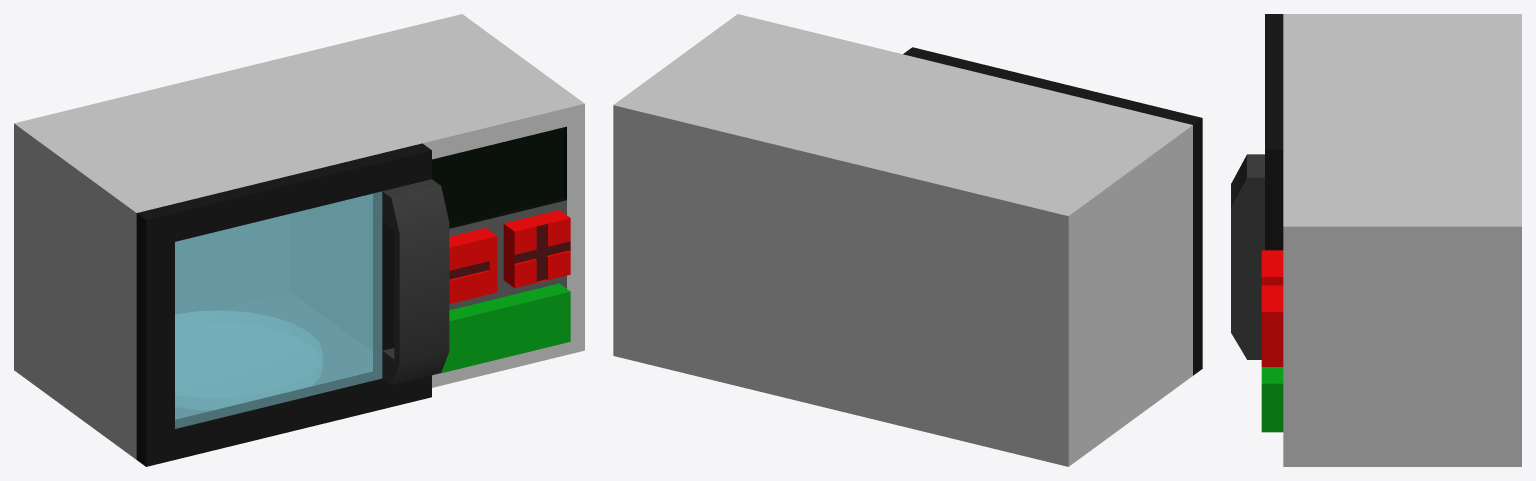
The model's file is Microwave.FBX.
The picture shows the model from 3 angles, left to right: view 1: azimuth 30°, elevation 25°; view 2: azimuth 150°, elevation 25°; view 3: azimuth 270°, elevation 25°; orthographic projection. The views are drawn at different scales.
Parts seen in each view (by area): view 1: Exterior, Door, Interior_Left, Interior_Back, StartButton, PlusButton, Interior_Bottom, MinusButton; view 2: Exterior, Door; view 3: Exterior, Door, PlusButton, StartButton, MinusButton.
Boxes of the visible parts, box(x1,y1,x2,y2) form: Exterior: box(14, 14, 584, 459); Door: box(136, 143, 449, 466); Interior_Left: box(291, 194, 372, 350); Interior_Back: box(175, 214, 289, 313); StartButton: box(441, 283, 570, 373); PlusButton: box(503, 210, 570, 287); Interior_Bottom: box(175, 293, 372, 418); MinusButton: box(449, 228, 497, 303); Exterior: box(613, 14, 1192, 466); Door: box(903, 47, 1202, 375); Exterior: box(1283, 14, 1521, 466); Door: box(1231, 14, 1283, 359); PlusButton: box(1261, 285, 1283, 366); StartButton: box(1261, 367, 1283, 432); MinusButton: box(1261, 250, 1283, 285).
Bounding box in the file's own units: 95 × 50 × 54.9.
